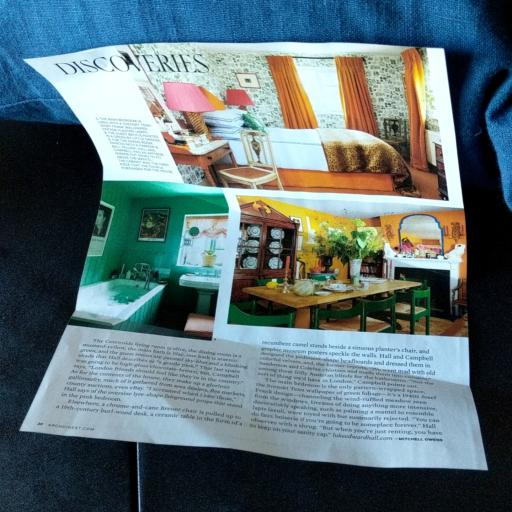paper: (22, 26, 480, 504)
